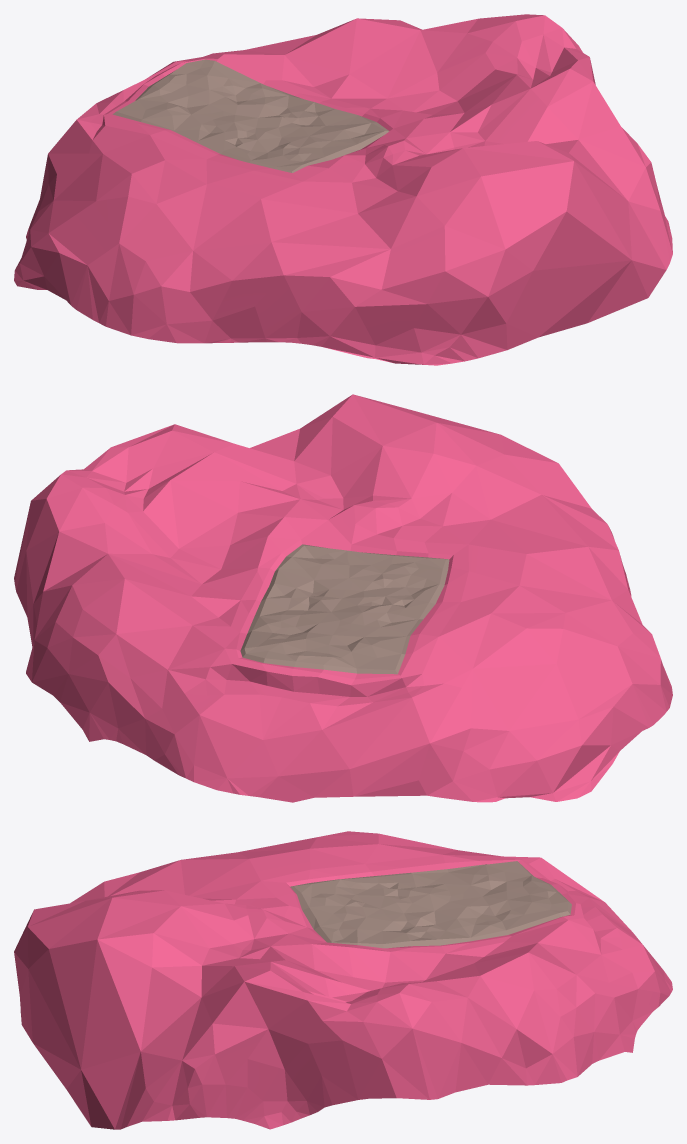
The model's file is ground_006.fbx.
3 renders of one model, top to bottom at view 1: azimuth 30°, elevation 25°; view 2: azimuth 150°, elevation 25°; view 3: azimuth 270°, elevation 25°, orthographic. The views are drawn at different scales.
Parts seen in each view (by area): view 1: ground.006; view 2: ground.006; view 3: ground.006.
Boxes of the visible parts, box(x1,y1,x2,y2) form: ground.006: box(14, 14, 672, 365); ground.006: box(14, 394, 672, 802); ground.006: box(14, 831, 672, 1129).
Bounding box in the file's own units: 2336 × 668 × 2433.
1 material, 1 textured.
